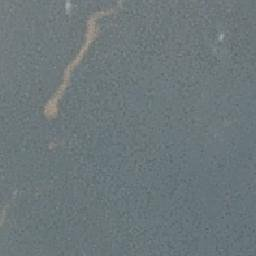debris: (78, 4, 104, 56), (45, 84, 60, 121), (63, 59, 76, 91)
